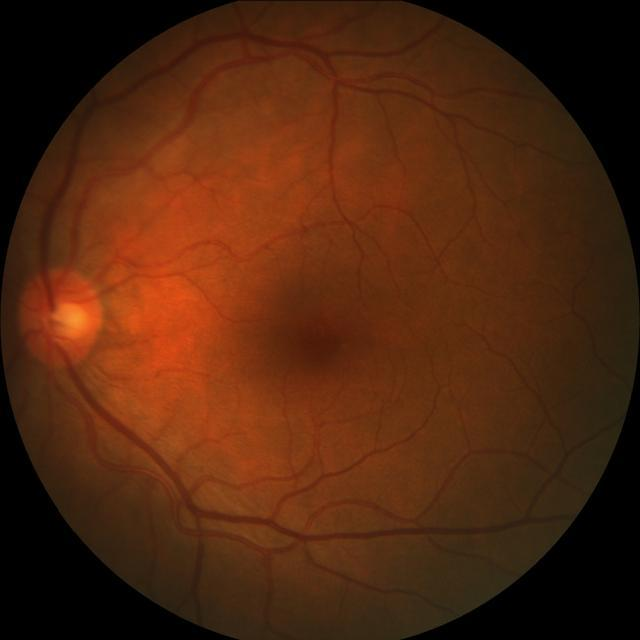OC: (49, 303, 87, 342)
OD: (20, 263, 104, 368)
